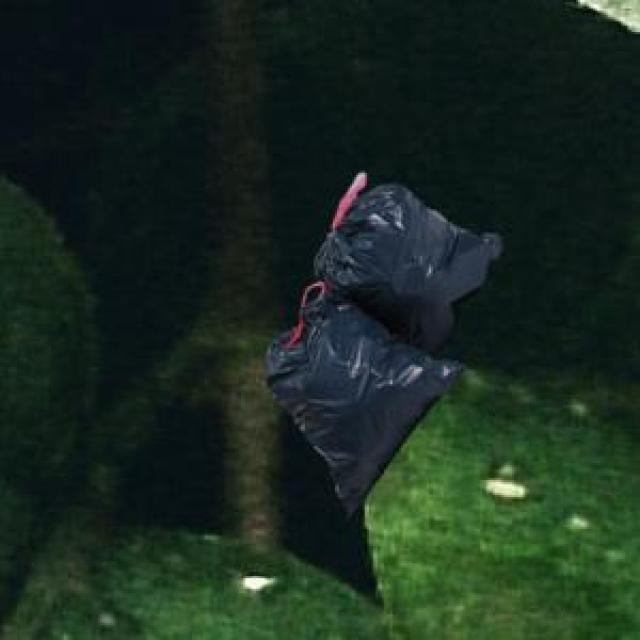waste: (266, 172, 502, 514)
